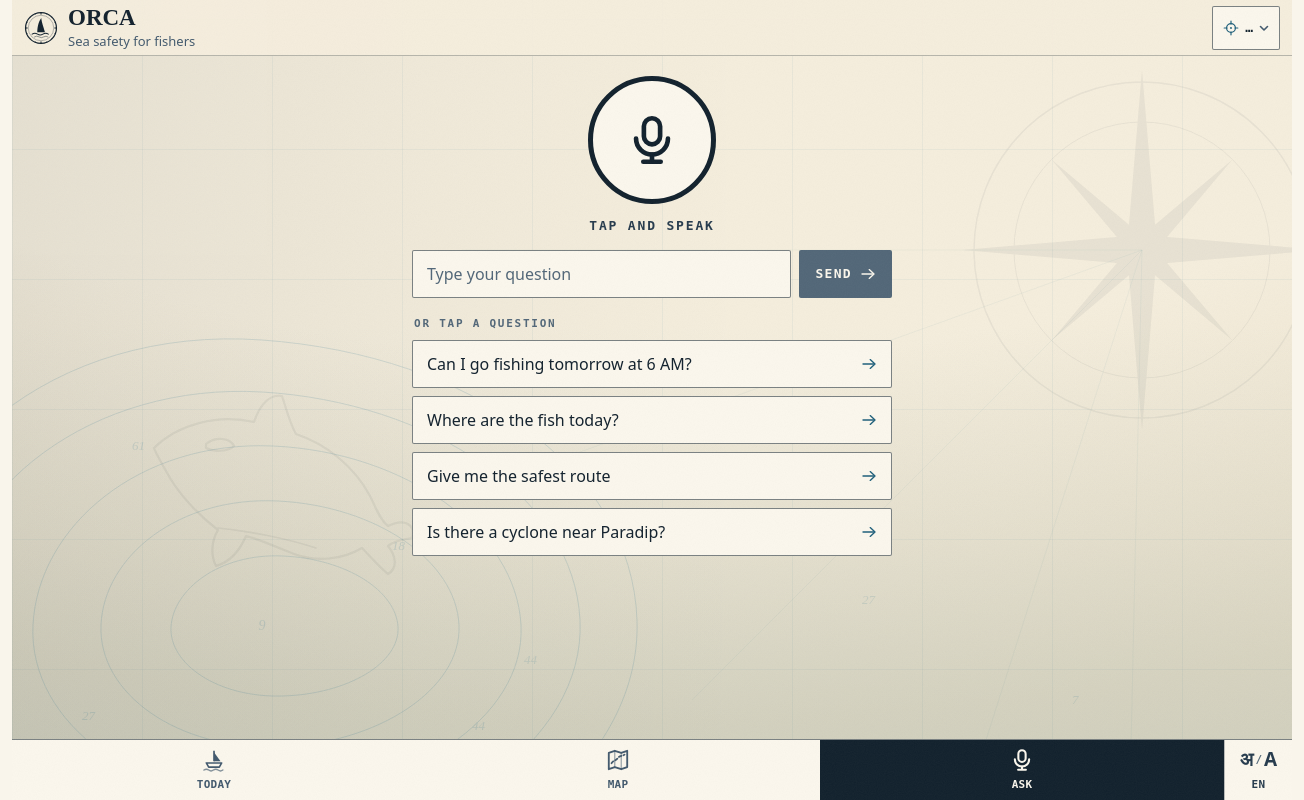
the phone's Ask tab › by voice › asks one spoken question once, whole, even when the phone reports it word by word
Click the button named "Ask by voice": (652, 140) [588, 76, 716, 204]
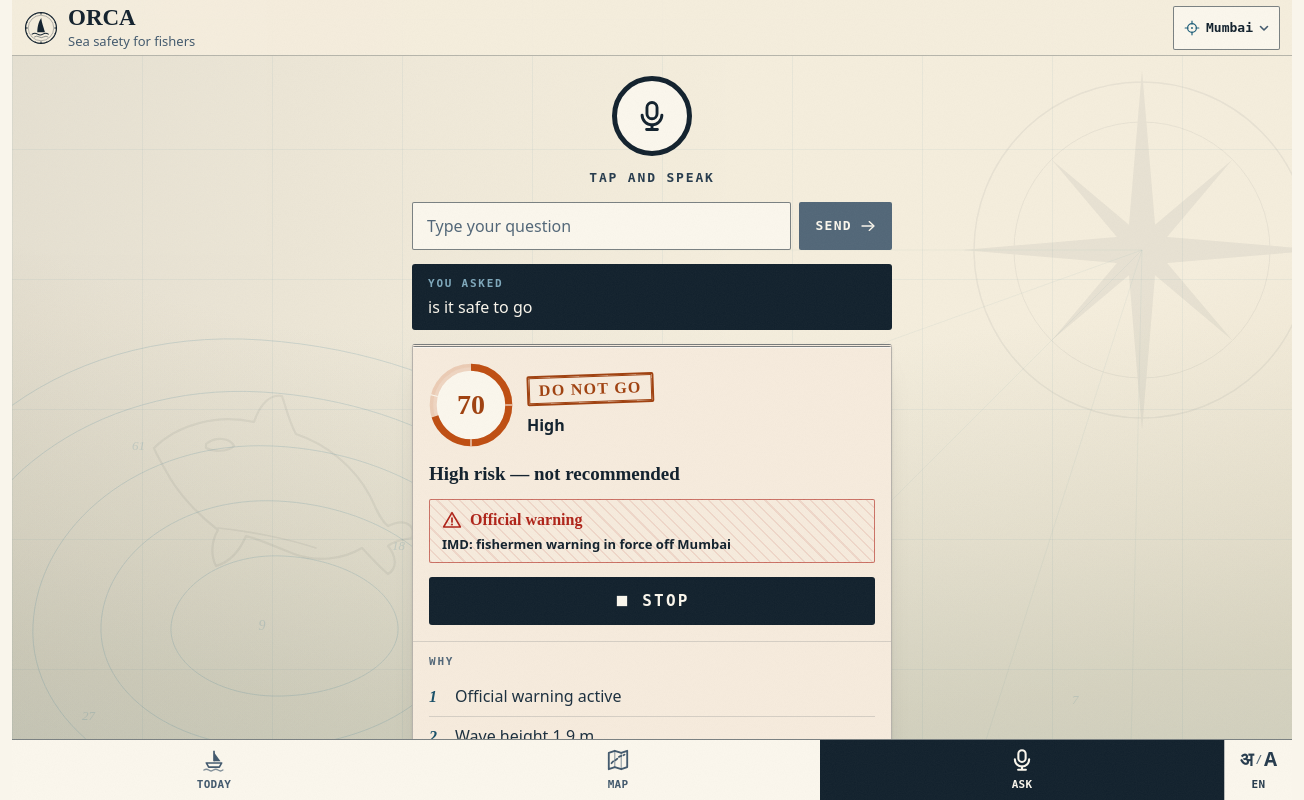
Expected: the text "Do not go" is shown, [526, 372, 654, 406]
